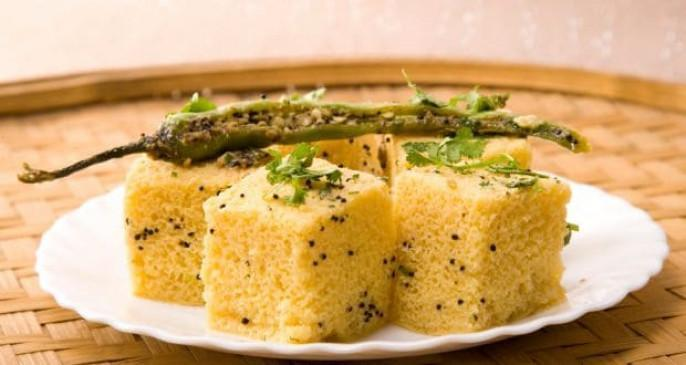dhokla: (124, 108, 580, 336)
